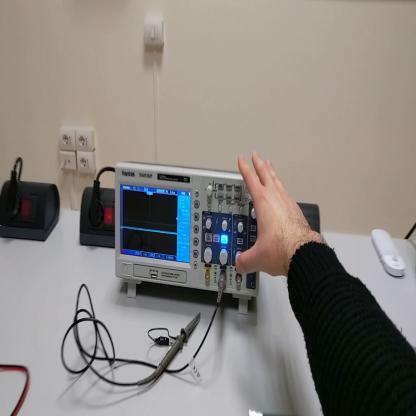hand: (234, 153, 307, 278)
oscilloscope: (114, 159, 262, 316)
oscilloscope probe tip: (139, 310, 202, 387)
socket: (2, 178, 62, 245), (78, 187, 117, 251)
